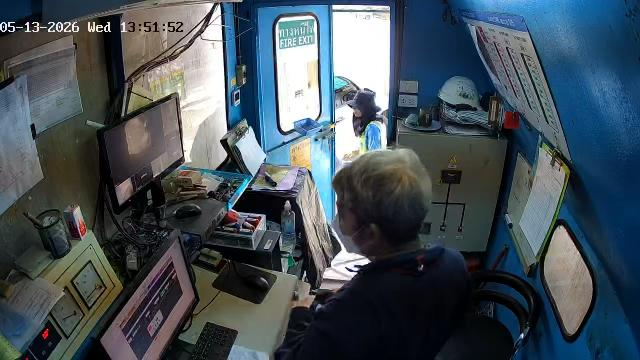Head: (333, 149, 431, 257)
People: (276, 149, 470, 359)
